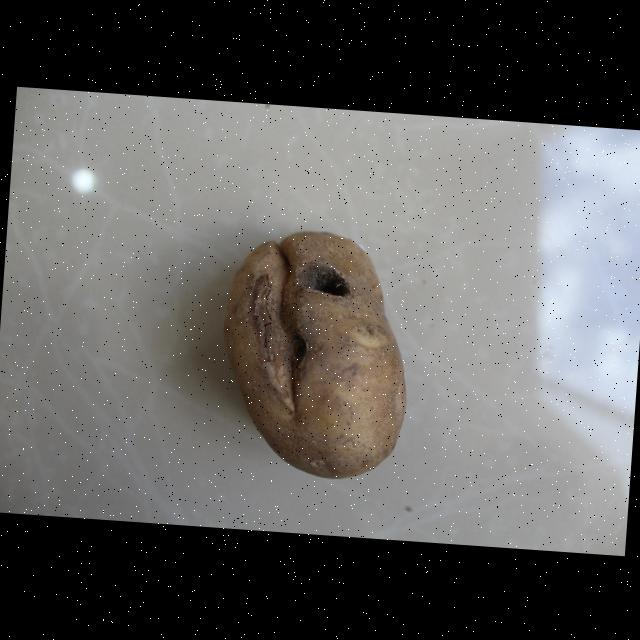Damaged potato: (211, 220, 420, 488)
